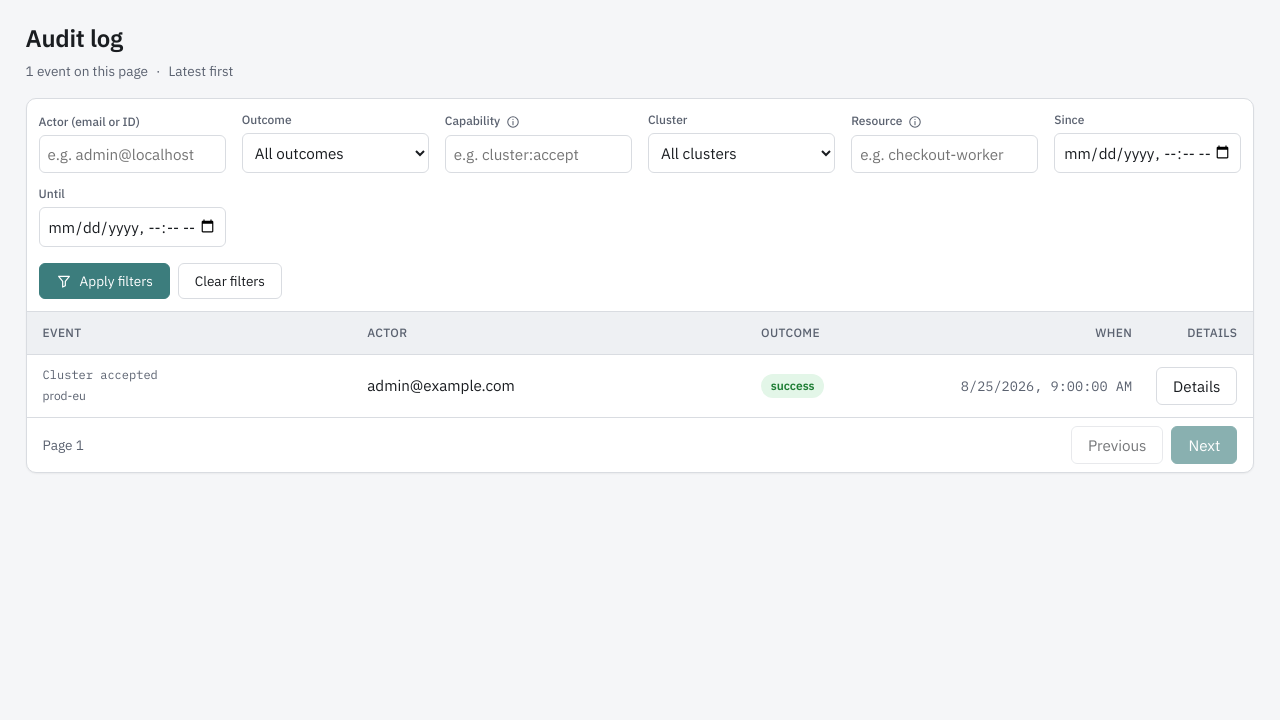
Scenario: AuditLogPage — filters › clearing filters removes the applied-filter chips and refetches with none
The image size is (1280, 720).
Check: the text "admin@example.com" is shown, box [367,376,515,396]
Type "admin@example.com" into the field labelled "Actor (email or ID)". click: {"x": 132, "y": 154}
box: [39,135,226,173]
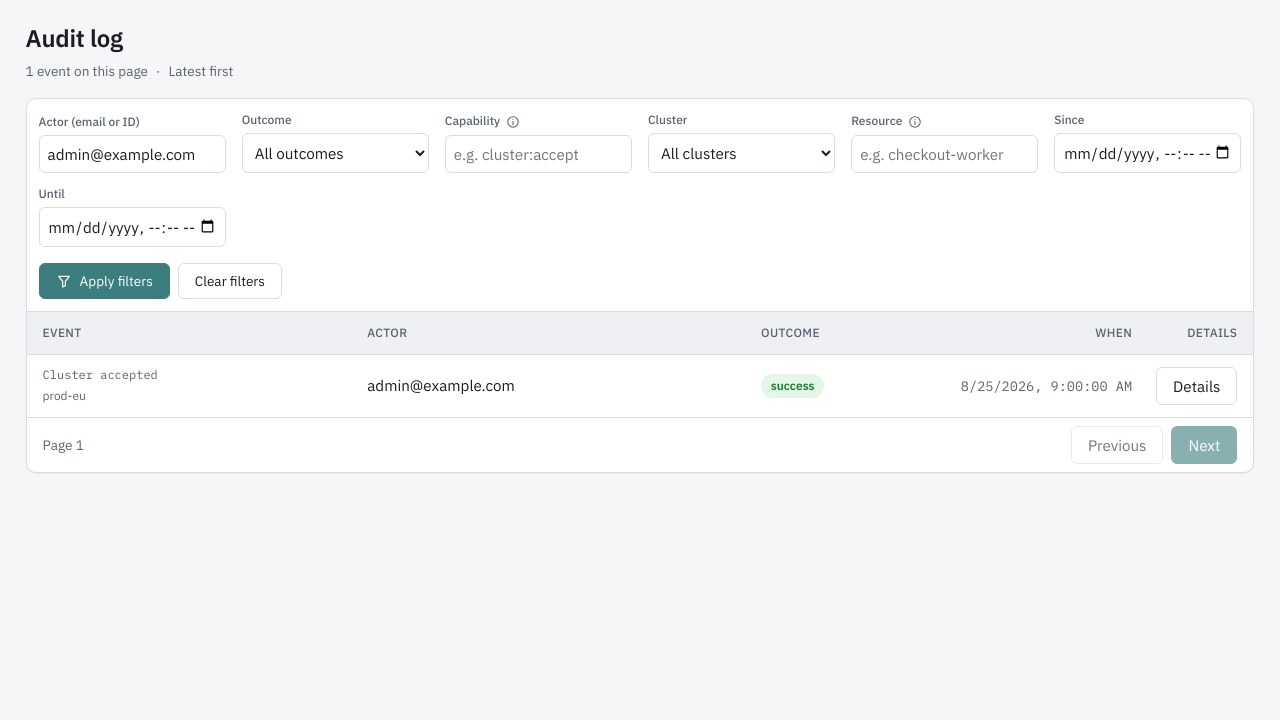
Click the button "Apply filters". click: {"x": 104, "y": 281}
box: [39,263,170,299]
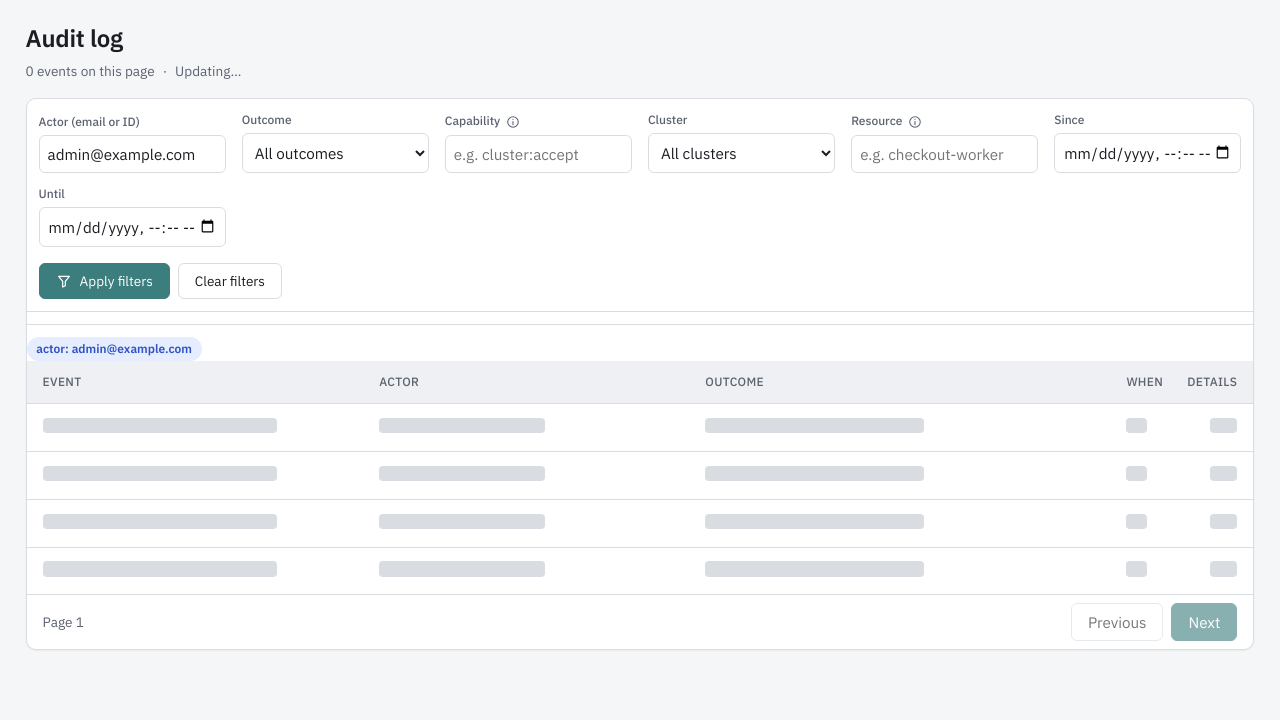
Check: the text "actor: admin@example.com" is shown, box [27,337,202,361]
Click the button "Clear filters". click: {"x": 230, "y": 281}
box: [178,263,282,299]
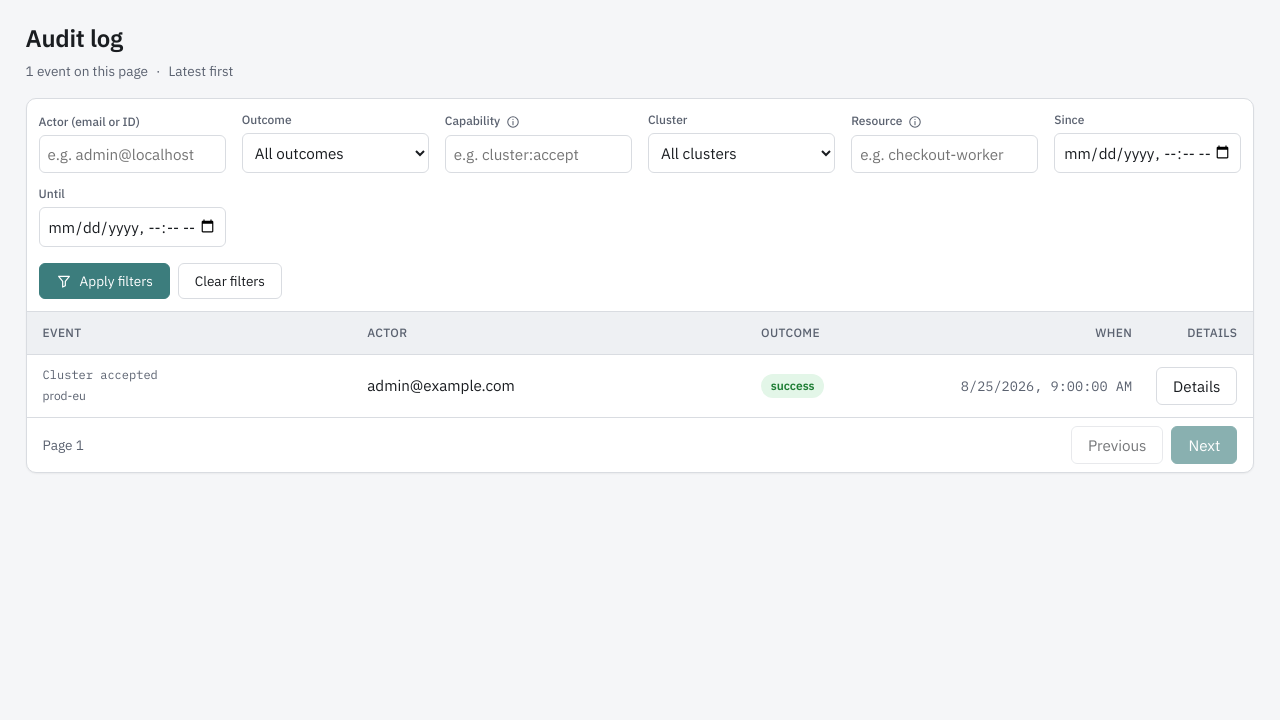
Check: the text "actor: admin@example.com" is gone
